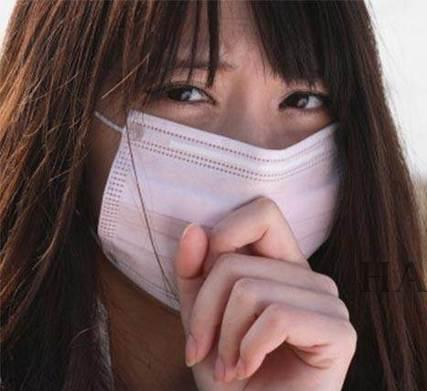OK: (100, 50, 359, 309)
